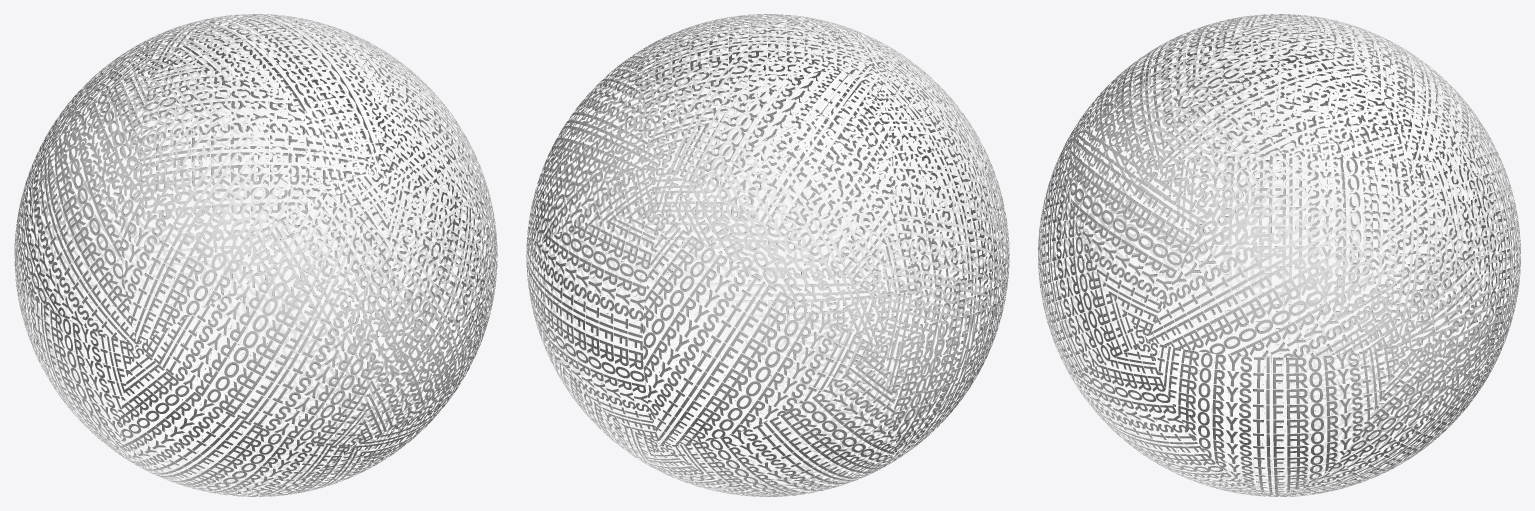
File: Rory_Rotate.fbx
3 renders of one model, left to right at view 1: azimuth 30°, elevation 25°; view 2: azimuth 150°, elevation 25°; view 3: azimuth 270°, elevation 25°, orthographic.
Parts seen in each view (by area): view 1: Sphere; view 2: Sphere; view 3: Sphere.
Boxes of the visible parts, x1=… form: Sphere: x1=14, y1=14, x2=497, y2=496; Sphere: x1=526, y1=14, x2=1009, y2=496; Sphere: x1=1038, y1=14, x2=1520, y2=496.
Bounding box in the file's own units: 200 × 200 × 200.
Materials: 1 (1 with a texture image).
